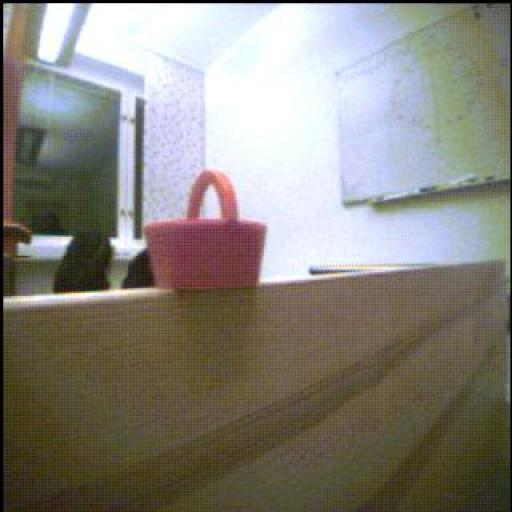Bucket: (145, 171, 267, 291)
